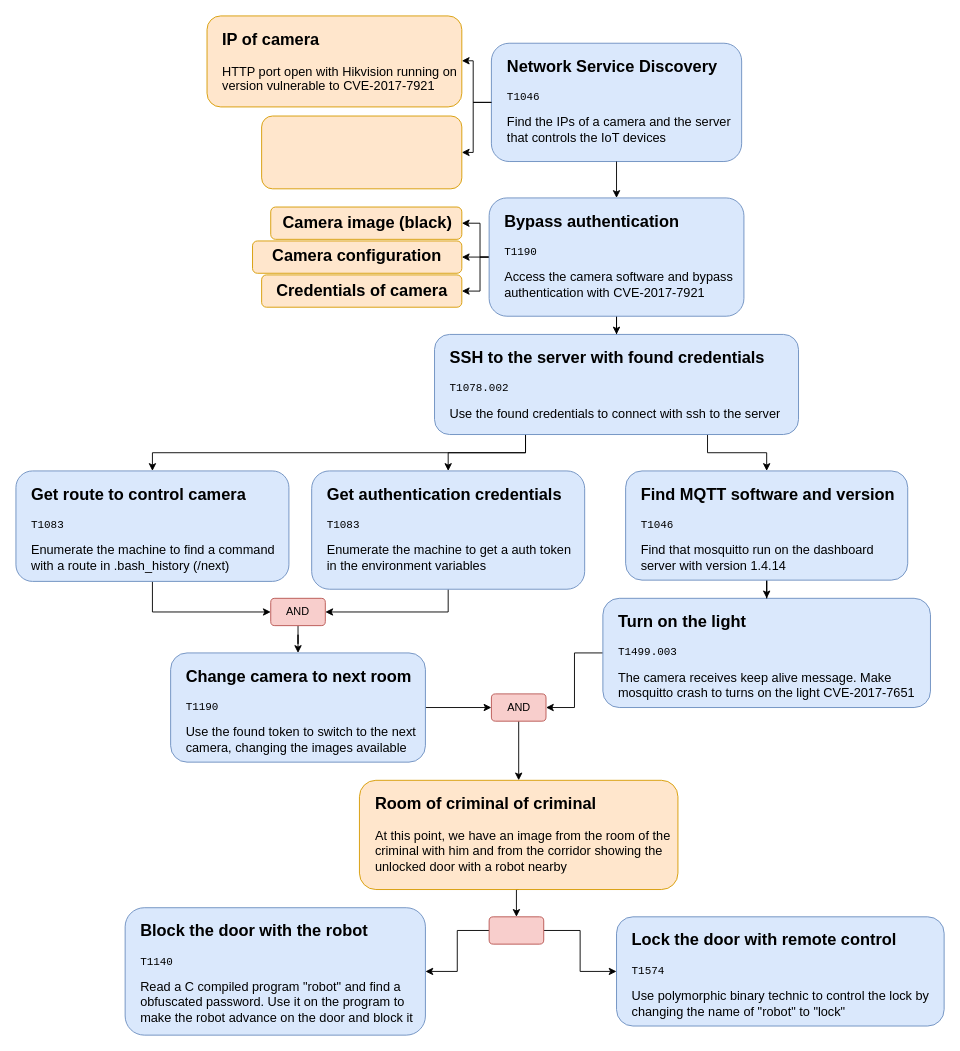
The diagram is 960 pixels wide and 1051 high, and some of its shapes have lost their labels. The centre of each missing label's shape, as x and y in pixels:
"IP of dashboard server SSH, MQTT port open" goes at (x=361, y=152).
"OR" goes at (x=516, y=930).
